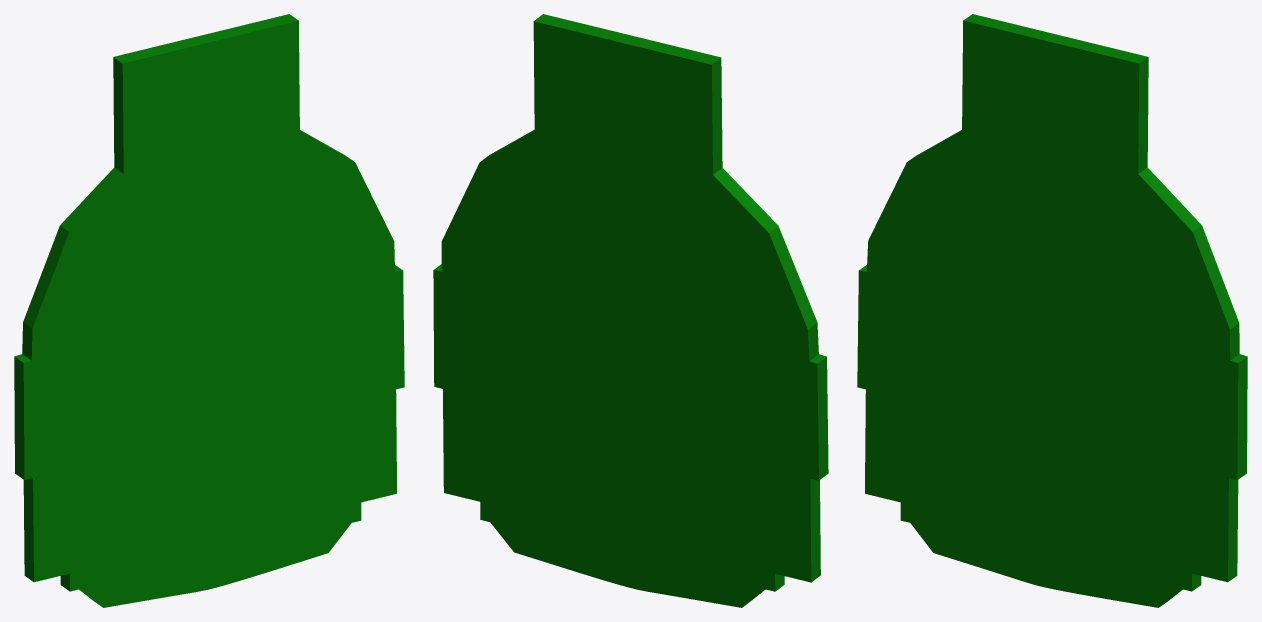
The model's file is train_clearence (1).fbx.
The picture shows the model from 3 angles, left to right: view 1: azimuth 30°, elevation 25°; view 2: azimuth 150°, elevation 25°; view 3: azimuth 330°, elevation 25°; orthographic projection.
Parts seen in each view (by area): view 1: train_clearance_v5; view 2: train_clearance_v5; view 3: train_clearance_v5.
Boxes of the visible parts, bbox=[...] form: train_clearance_v5: bbox=[14, 14, 404, 607]; train_clearance_v5: bbox=[433, 14, 828, 607]; train_clearance_v5: bbox=[857, 14, 1247, 607].
Bounding box in the file's own units: 442 × 603 × 29.65.
1 material, 1 textured.
